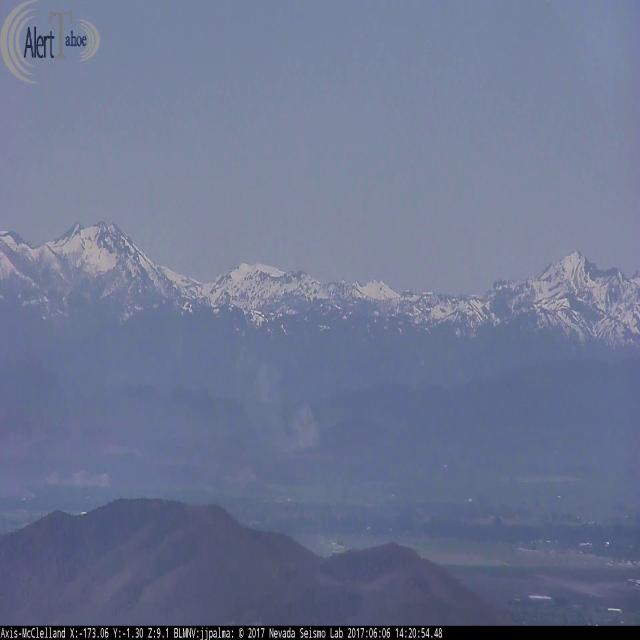smoke: (170, 323, 320, 458), (0, 338, 167, 448)
